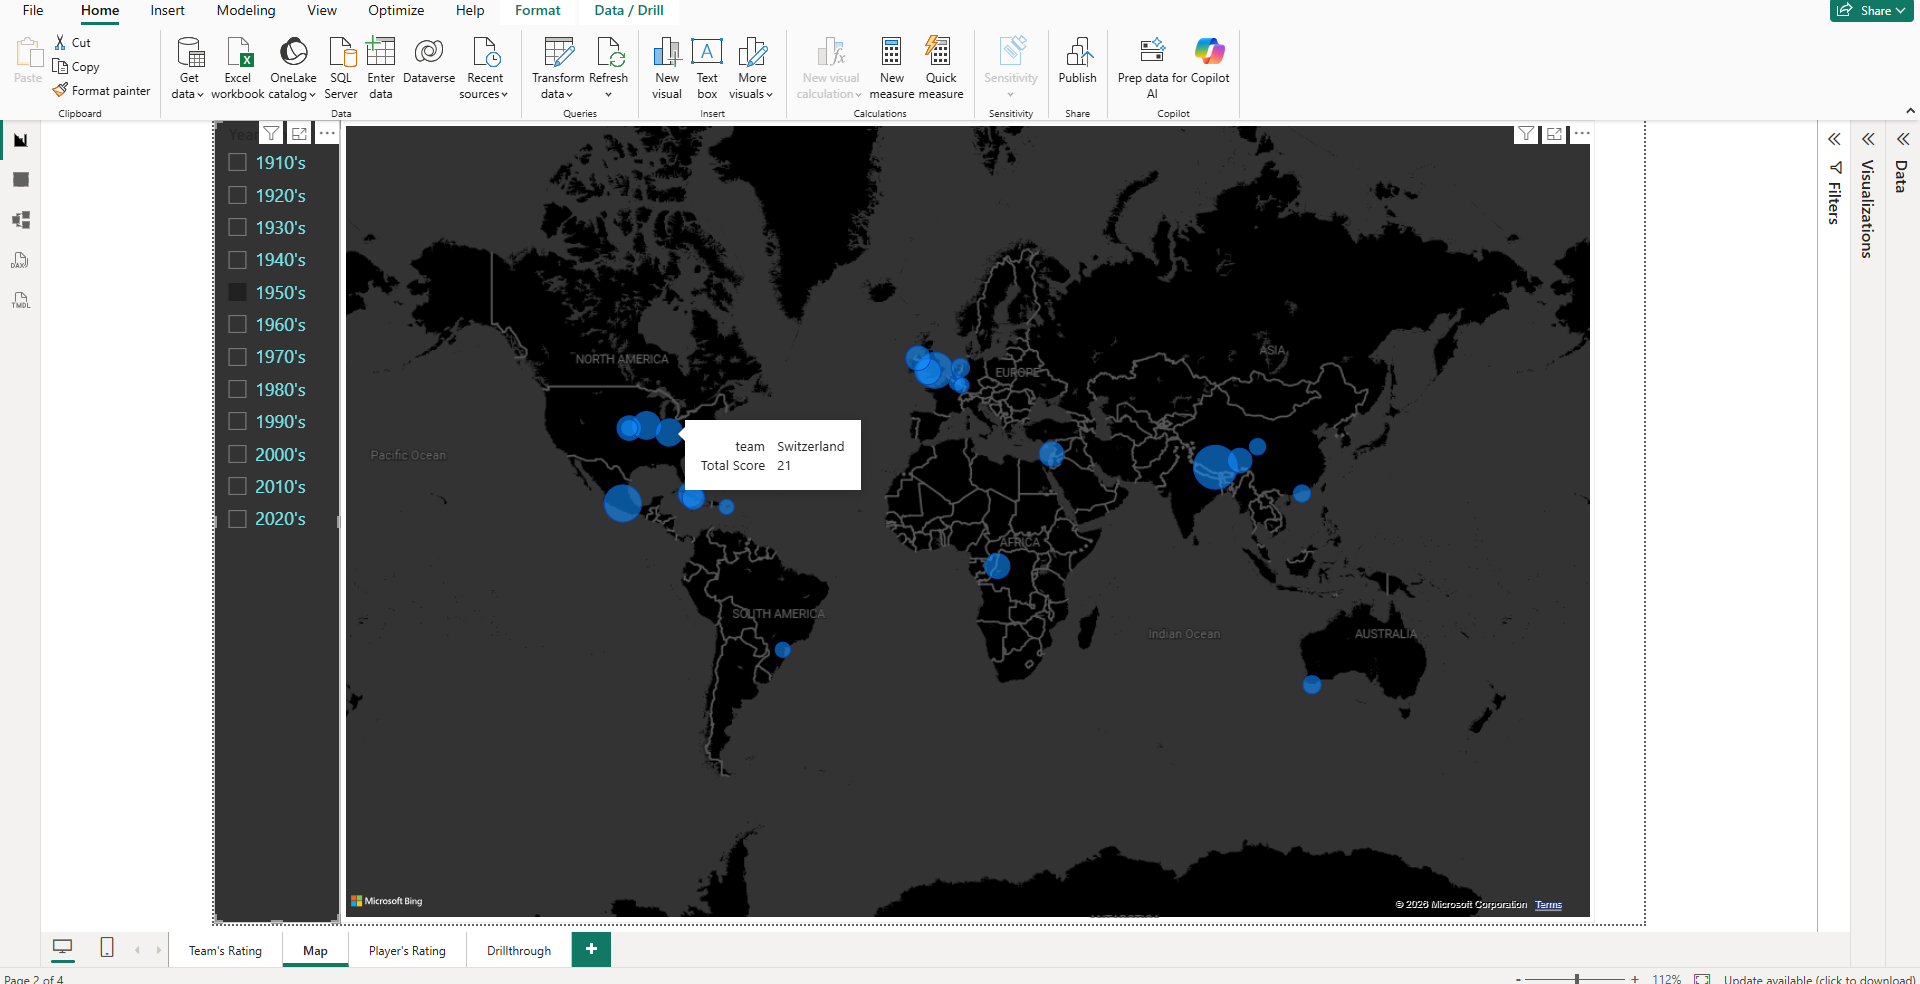

The page's visual inventory and layout, read from the dashboard file:
{"tool":"powerbi","page":{"name":"Map","canvas":[1280,720],"ordinal":1},"visuals":[{"type":"map","fields":{"Category":["goalscorers.team"],"Size":["goalscorers.Total Score"]},"box":[113.1,0,1123.9,719.2],"z":0},{"type":"slicer","fields":{"Values":["goalscorers.Year Bins"]},"box":[0,0,113.1,719.2],"z":1000}]}

Visuals, with their boxes on the page's 1280x720 design canvas (x1, y1, x2, y2). These are canvas units, not pixel positions in the 1920x984 screenshot, which may show the page scaled, cropped or inside an application window:
map - goalscorers.team x goalscorers.Total Score: <region>113, 0, 1237, 719</region>
slicer - goalscorers.Year Bins: <region>0, 0, 113, 719</region>
